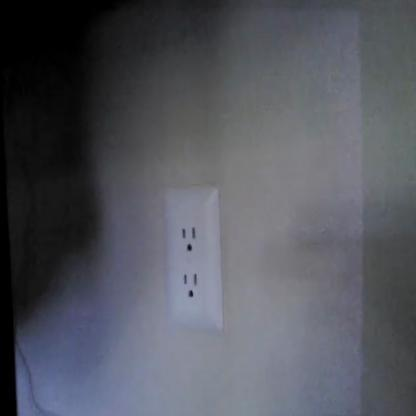OUTLET: (162, 186, 224, 333)
